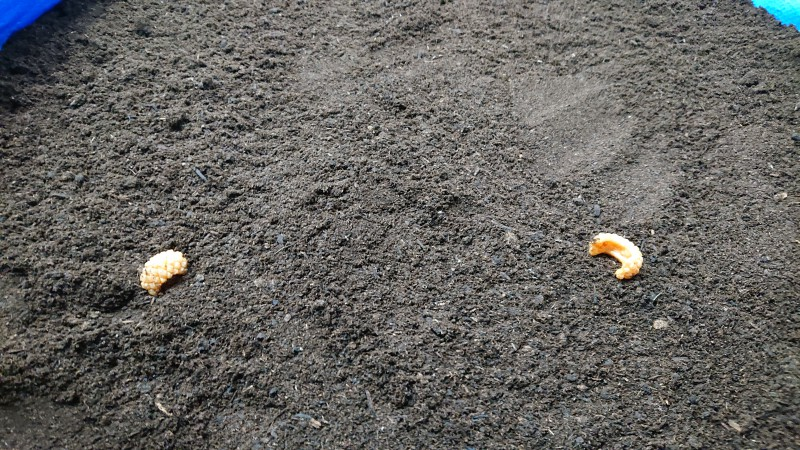eggs: (585, 225, 647, 284), (137, 246, 189, 296)
